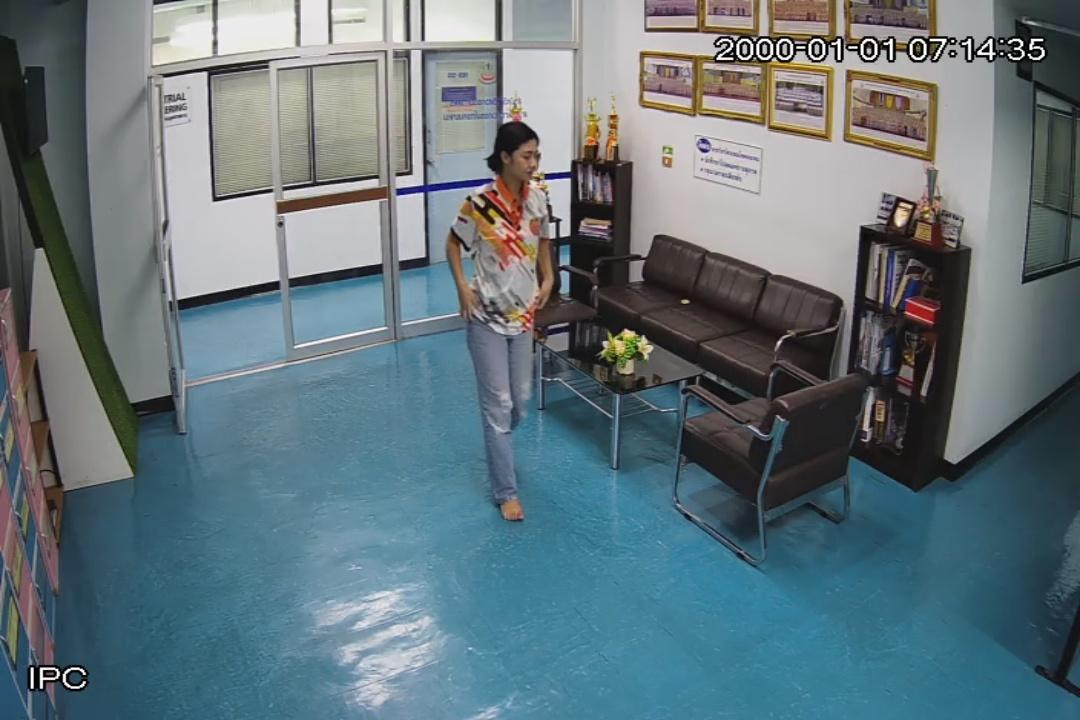normal: (448, 108, 562, 526)
